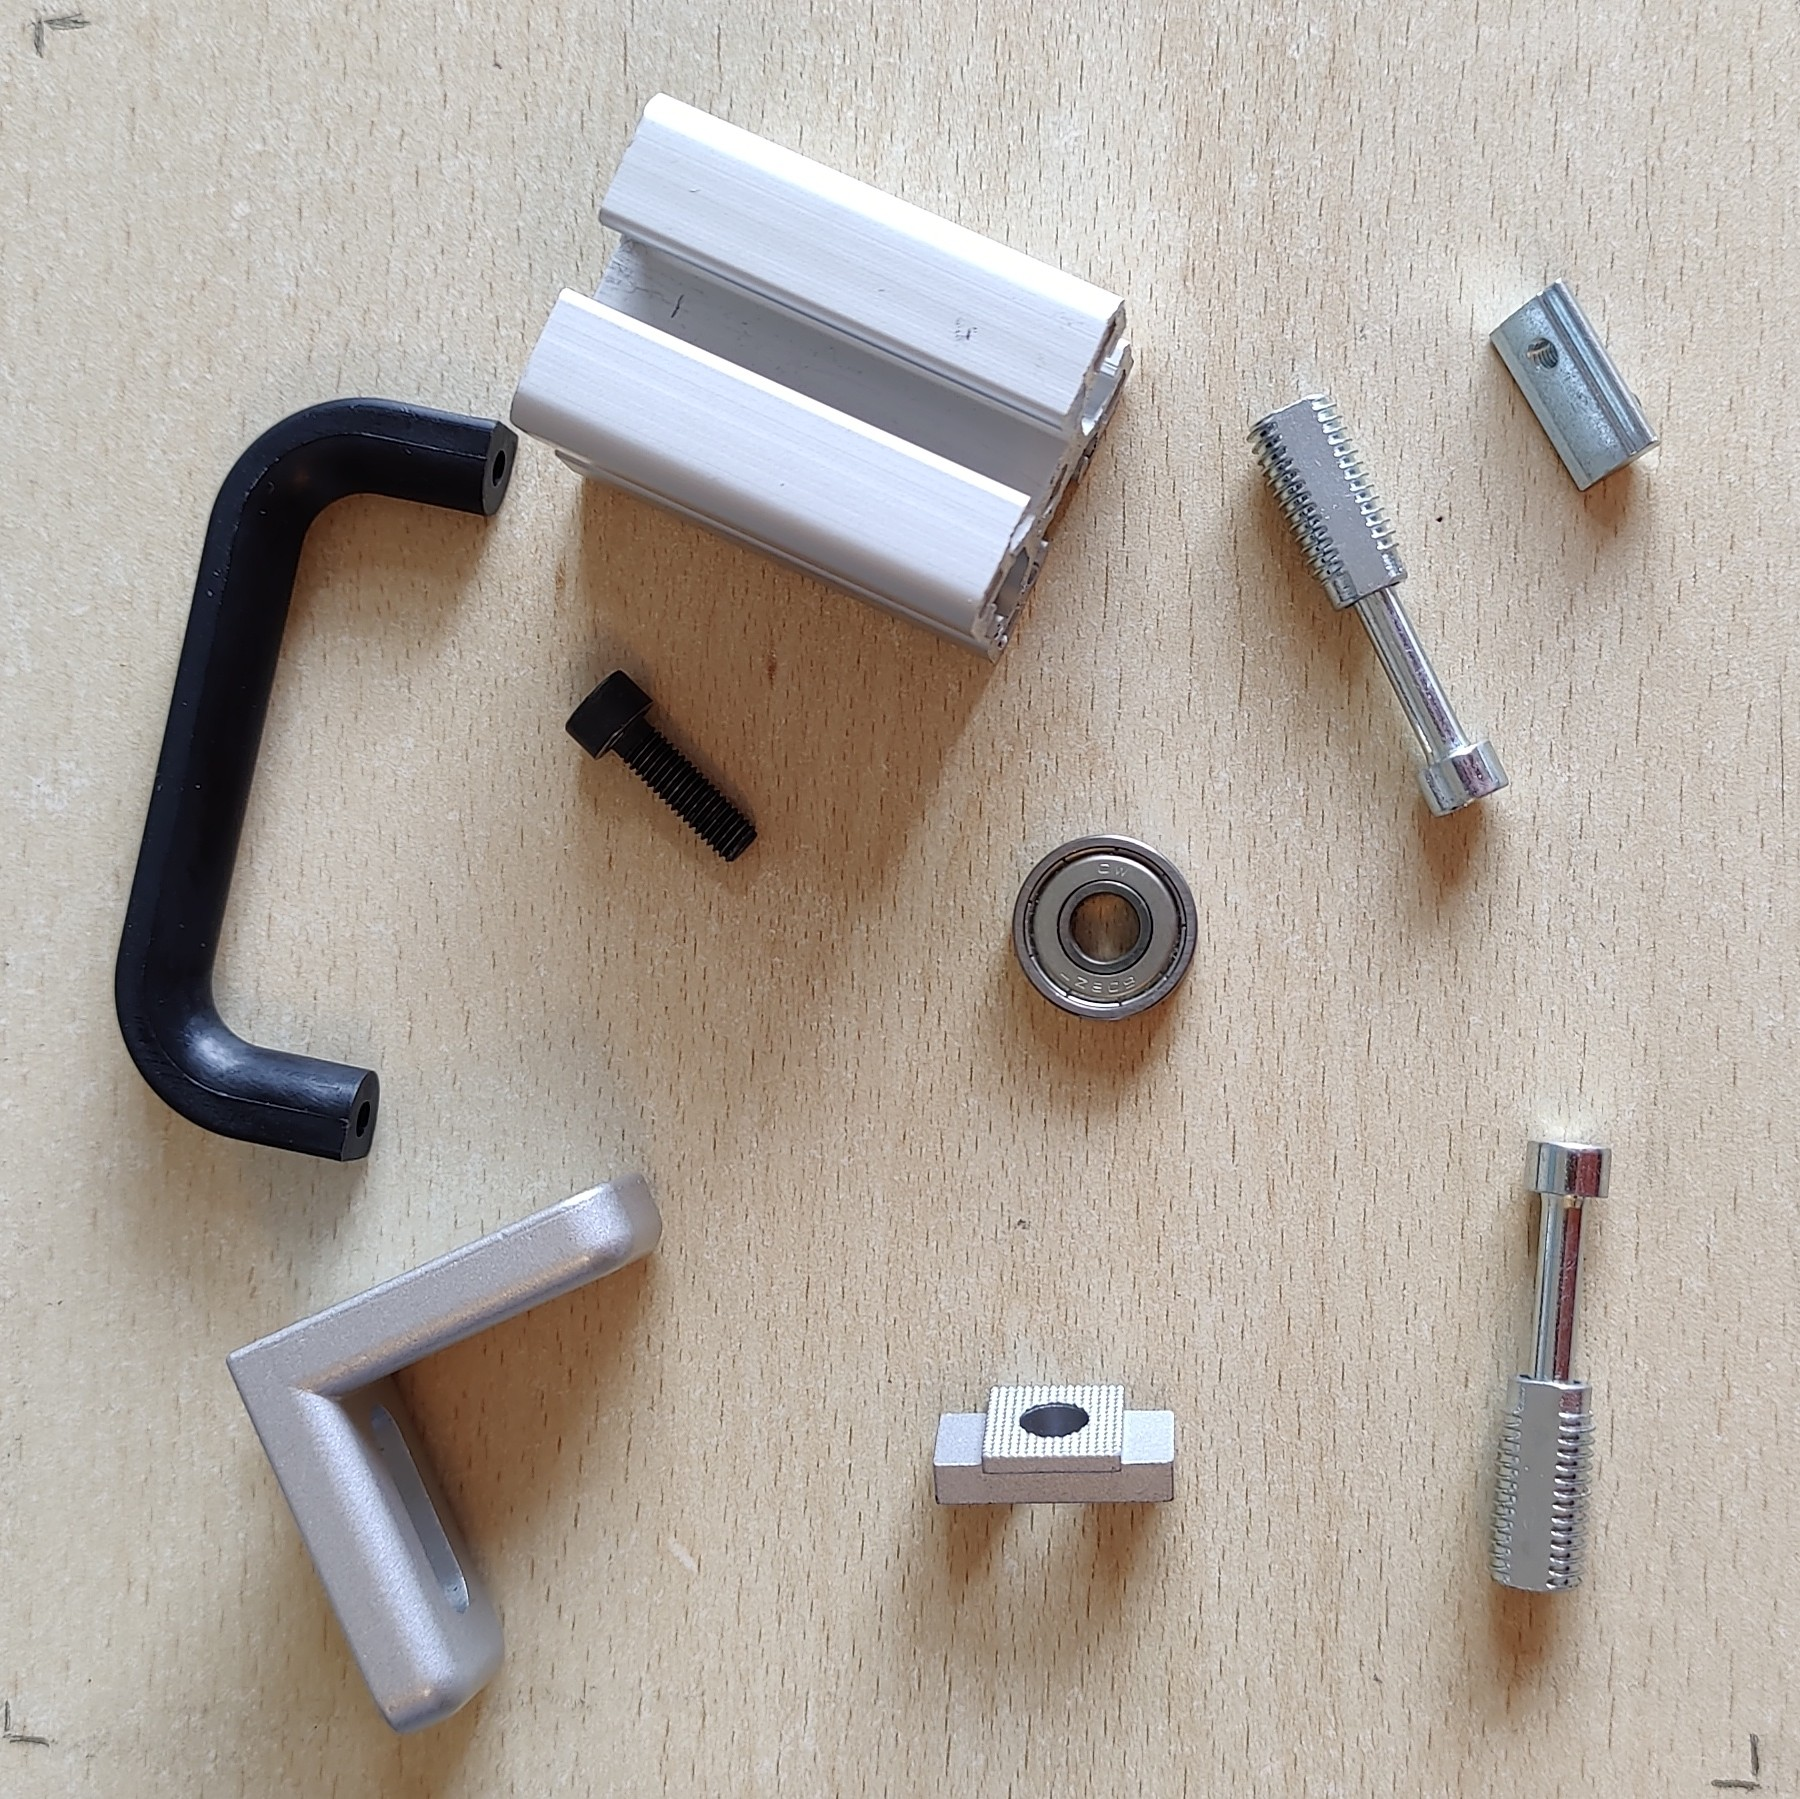Aluminium Extension: (506, 92, 1140, 674)
Ball Bearing: (1010, 834, 1201, 1026)
Multiwinkel: (222, 1170, 665, 1740)
Pull Handle: (110, 392, 519, 1163)
Shoulder Socket Head Cap Screw: (1238, 389, 1513, 825), (1485, 1133, 1616, 1598)
Socket Head Cap Screw: (562, 666, 762, 867)
T Nut Square: (927, 1379, 1179, 1507)
T Spring Nut: (1489, 277, 1665, 496)
